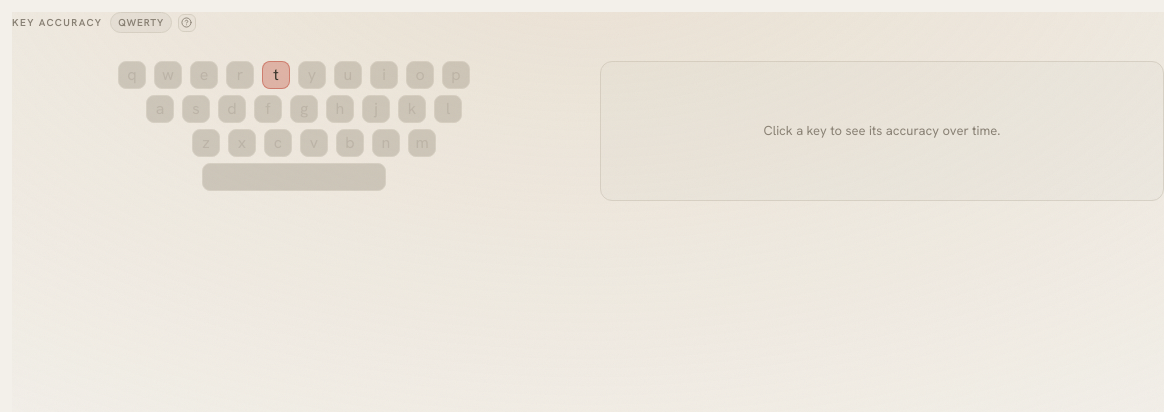
Test: KeyAccuracyBoard › shows not-enough-data message for keys with <2 trend points
Click the button named "t key".
click(276, 75)  # box [262,61,290,89]
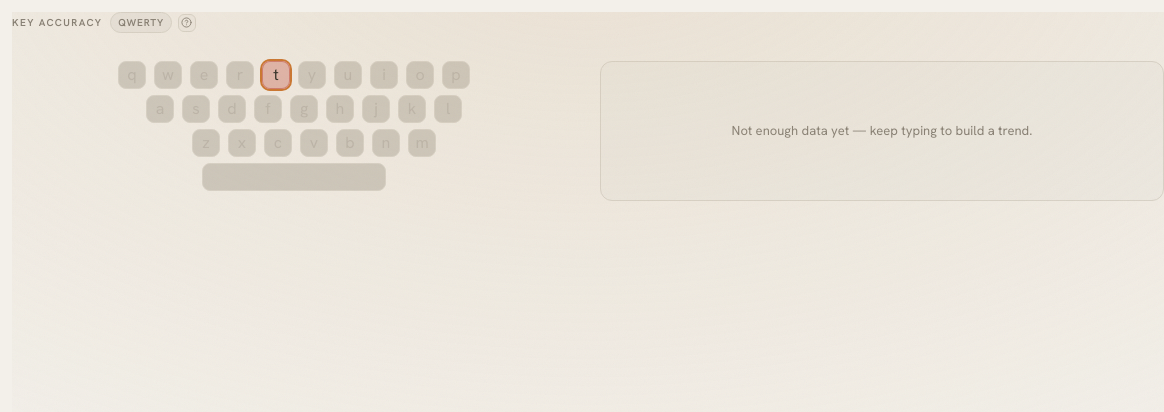
Expected: the text "Not enough data yet — keep typing to build a trend." is shown, [732,122,1032,139]
